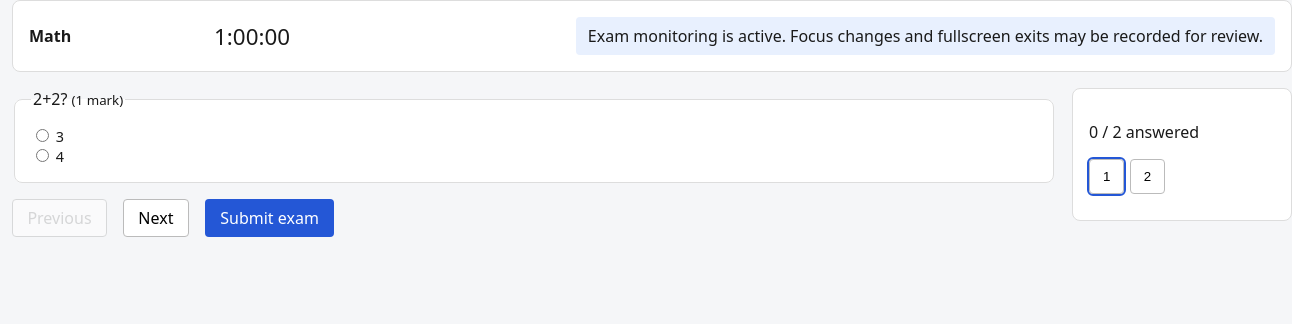
Test: ExamShell › renders questions, saves a selected option and keeps it when navigating
Expected: the text "2+2? (1 mark)" is shown, [31,88,125,110]
Step 1. Click the radio button labelled "4" → click(42, 156), box [36,149,49,162]
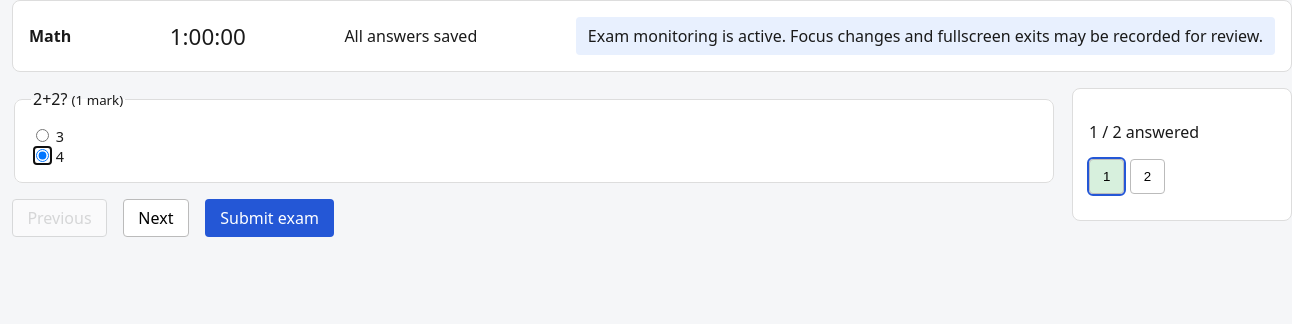
Step 2. Click the button "Next" → click(156, 218), box [123,199,189,237]
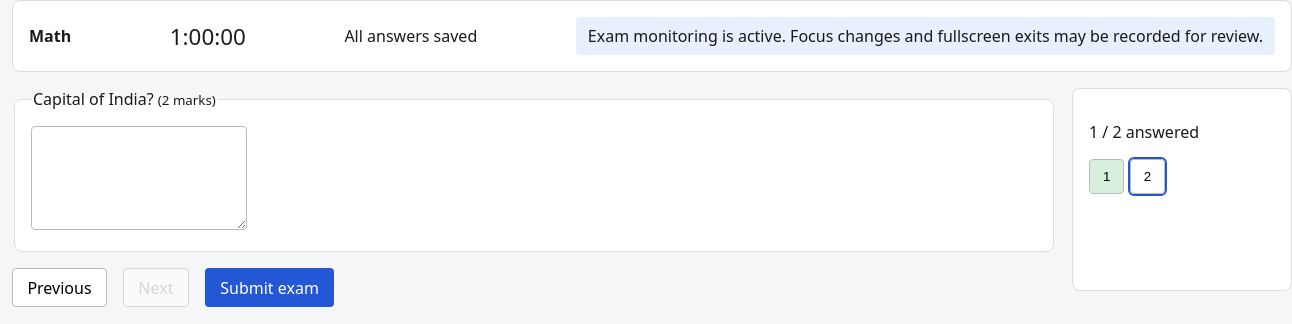
Expected: the text "Capital of India? (2 marks)" is shown, [31,88,218,110]
Step 3. Click the button "Previous" → click(60, 288), box [12,268,107,307]
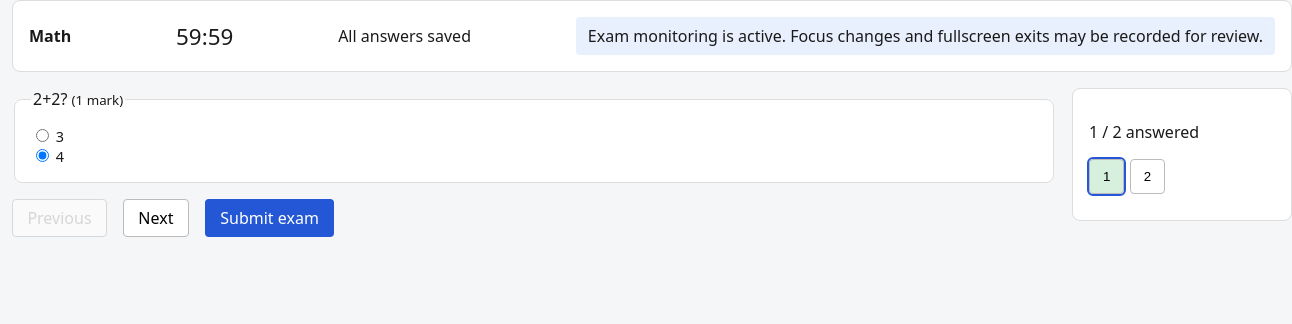
Expected: the radio button labelled "4" is checked, [36,149,49,162]
